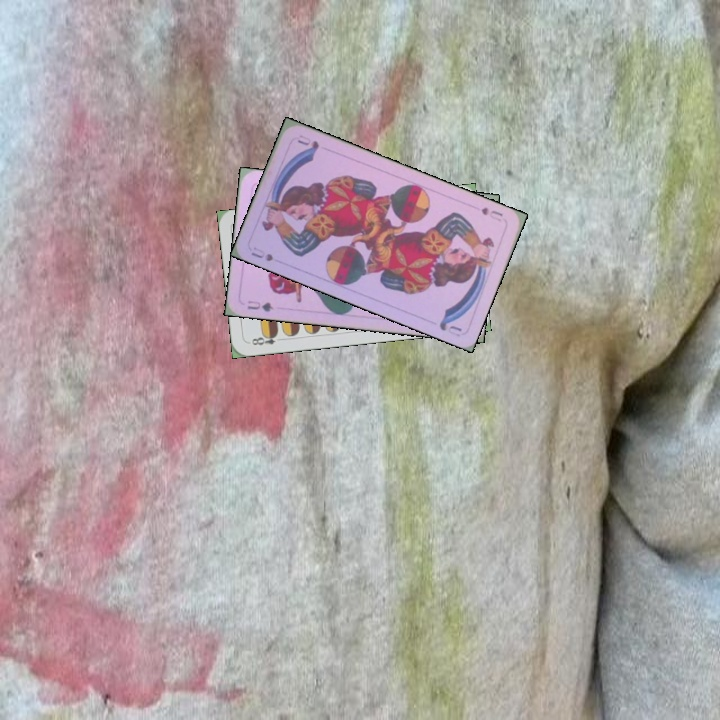E8: (245, 329, 286, 348)
GU: (243, 296, 276, 314)
SU: (247, 243, 276, 264), (477, 203, 505, 219)
